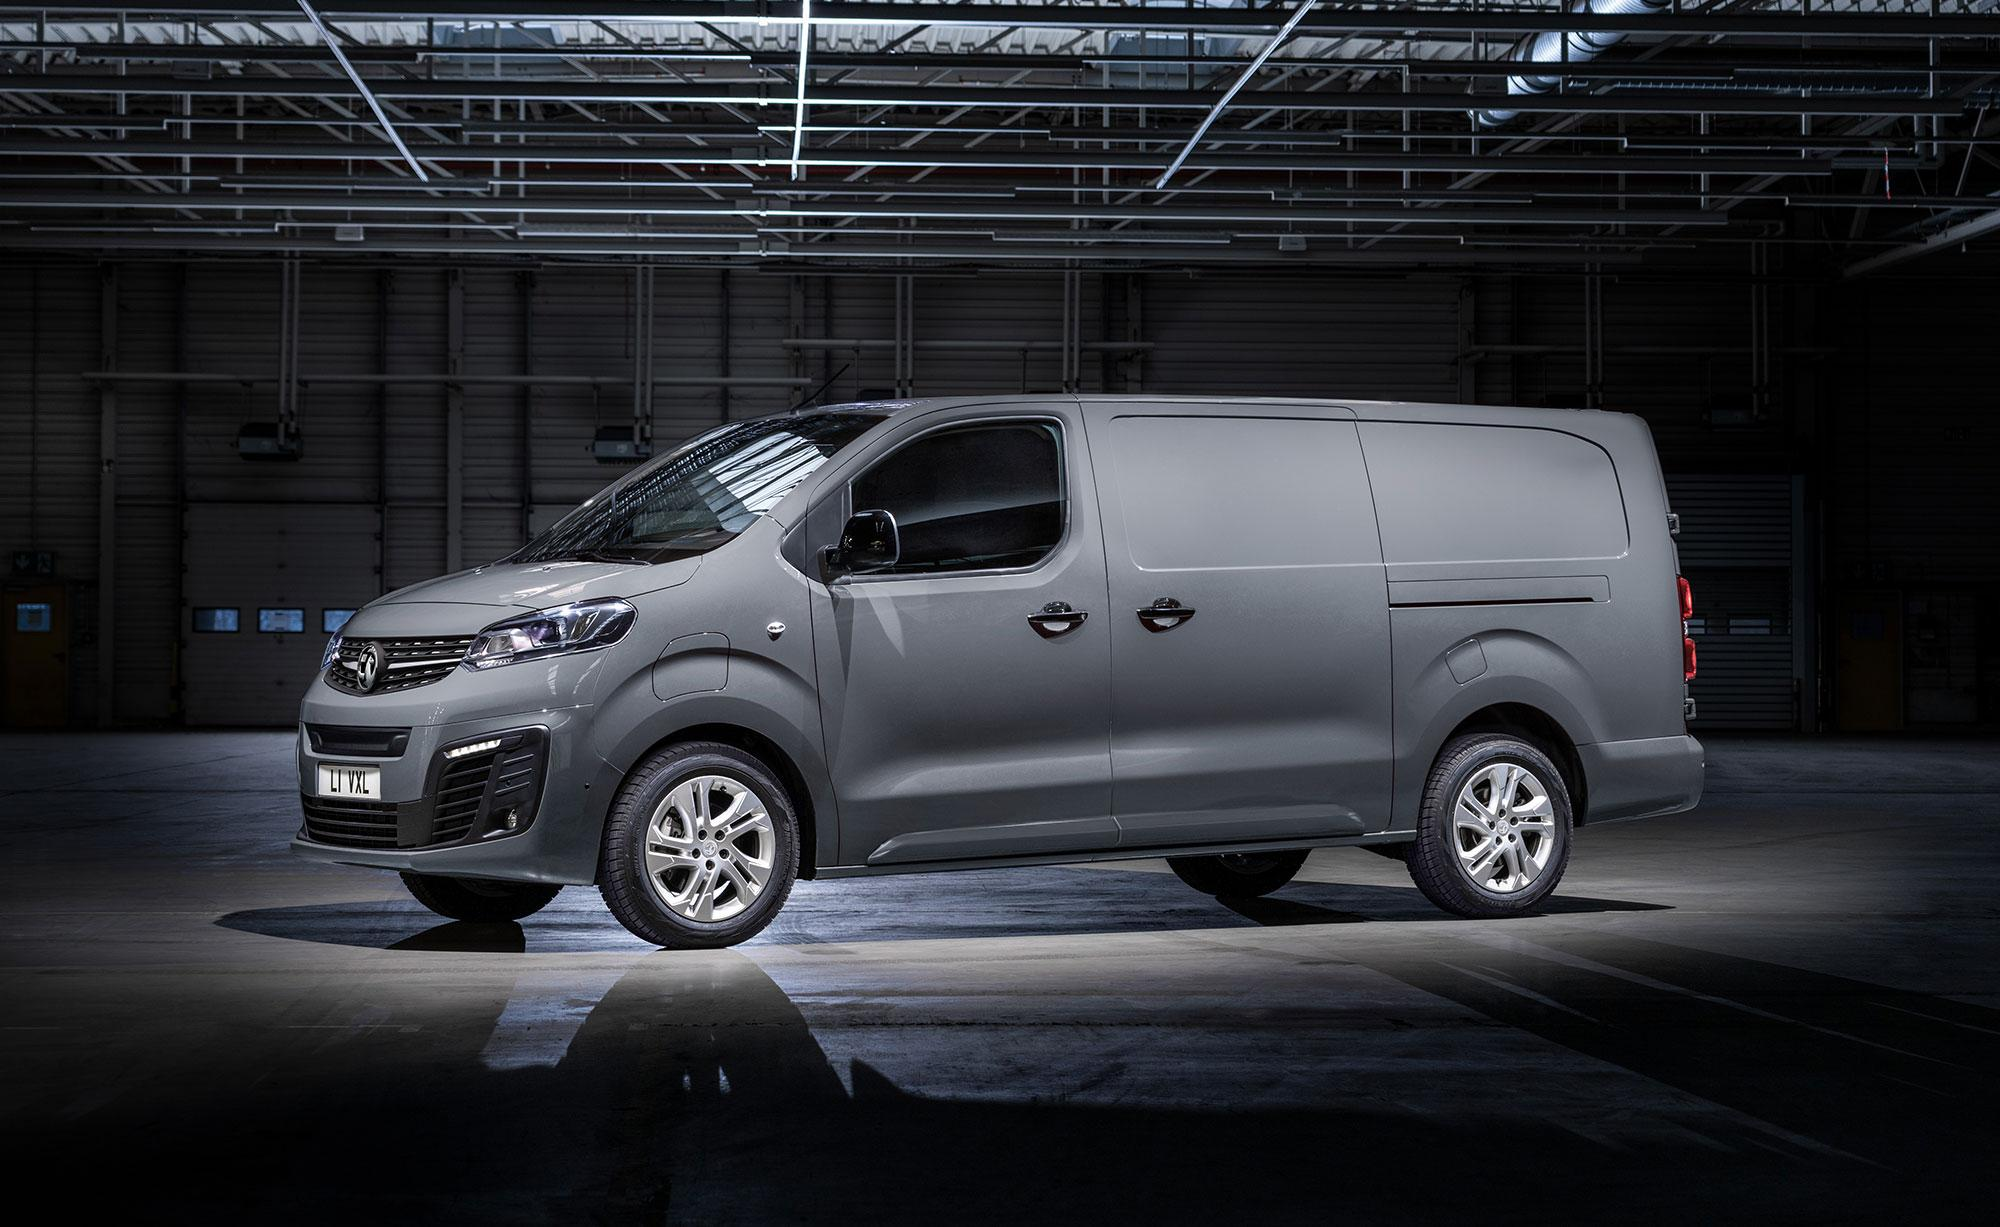van: (287, 391, 1700, 948)
